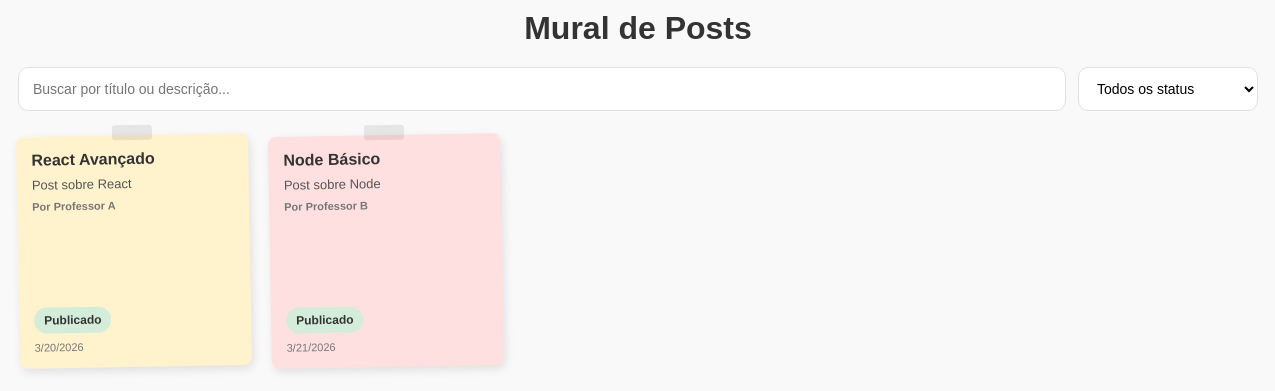
Home › filtra posts pela busca
The width and height of the screenshot is (1275, 391).
Expected: the heading "React Avançado" is shown, [31,150,155,169]
Expected: the heading "Node Básico" is shown, [283,150,380,169]
In the field with placeholder "Buscar por título ou descrição...": (542, 89) [18,67,1066,111], type "react"
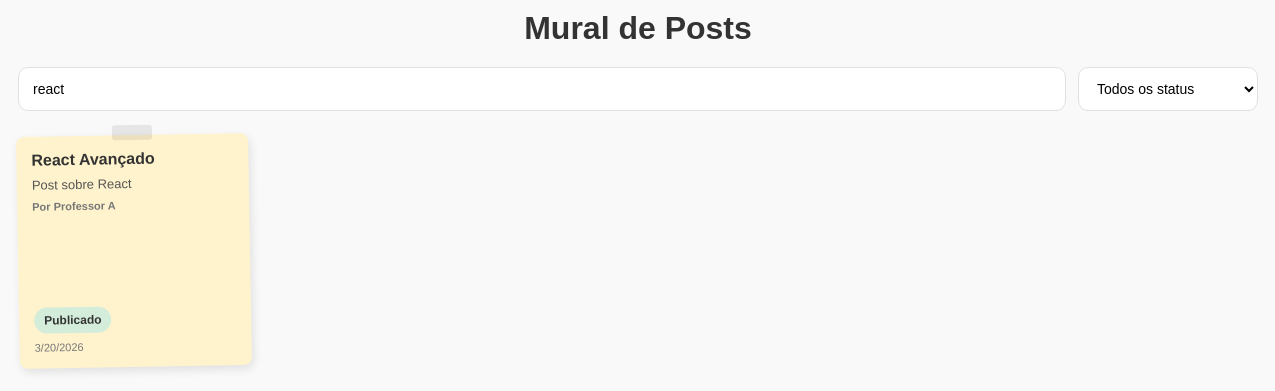
Expected: the heading "React Avançado" is shown, [31,150,155,169]
Result: the heading "Node Básico" is gone
